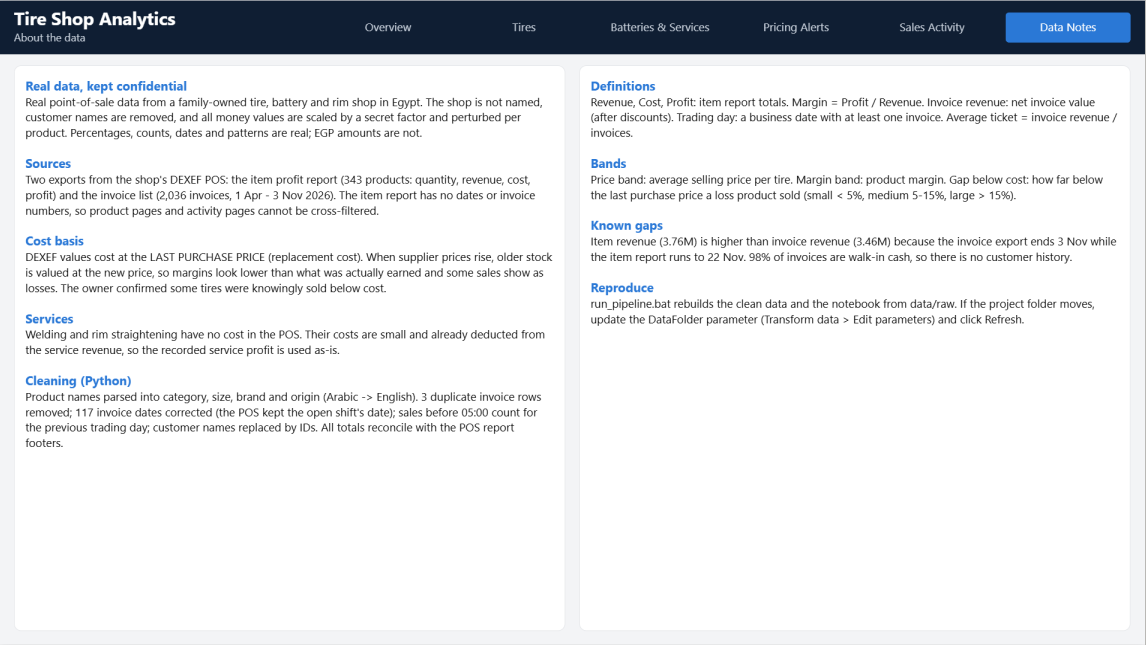

This screenshot's page, from the dashboard's own definition file:
{"tool":"powerbi","page":{"name":"Data Notes","canvas":[1280,720],"ordinal":5},"visuals":[{"type":"shape","box":[0,0,1280,60],"z":100},{"type":"textbox","box":[16,6,340,50],"z":200},{"type":"pageNavigator","box":[364,13,900,34],"z":300},{"type":"textbox","box":[16,72,616,632],"z":400},{"type":"textbox","box":[648,72,616,632],"z":500}]}

Visuals, with their boxes in screenshot pixels (x1, y1, x2, y2), scaled from the page's 1280x720 canvas onto the 1146x645 screenshot:
shape: box(0, 0, 1145, 54)
textbox: box(14, 5, 319, 50)
pageNavigator: box(326, 12, 1132, 42)
textbox: box(14, 64, 566, 631)
textbox: box(580, 64, 1132, 631)
